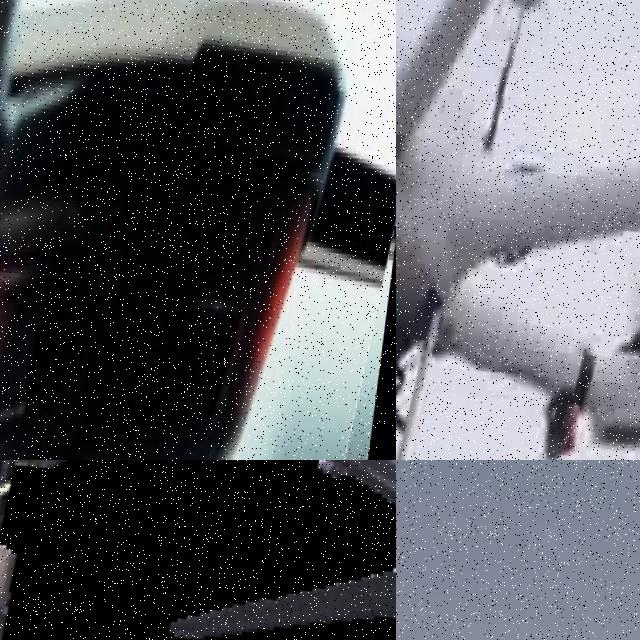drone: (0, 0, 396, 460), (396, 0, 640, 460), (0, 460, 396, 640)
